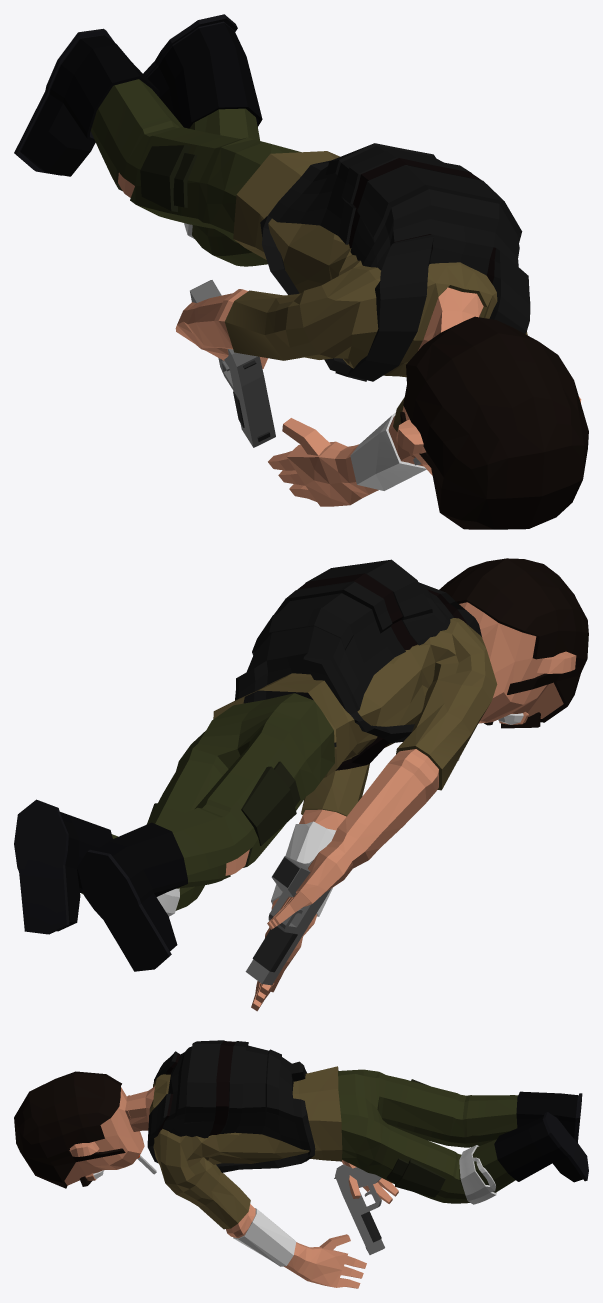
The model's file is frame_0002.obj.
The picture shows the model from 3 angles, top to bottom: view 1: azimuth 30°, elevation 25°; view 2: azimuth 150°, elevation 25°; view 3: azimuth 270°, elevation 25°; orthographic projection. The views are drawn at different scales.
Parts seen in each view (by area): view 1: Body, Gun; view 2: Body, Gun; view 3: Body, Gun.
Boxes of the visible parts, bbox=[...] form: Body: bbox=[14, 14, 588, 529]; Gun: bbox=[190, 280, 275, 447]; Body: bbox=[14, 558, 588, 1011]; Gun: bbox=[245, 856, 331, 985]; Body: bbox=[14, 1040, 588, 1288]; Gun: bbox=[334, 1164, 384, 1254].
Bounding box in the file's own units: 1.22 × 1.95 × 4.19.
